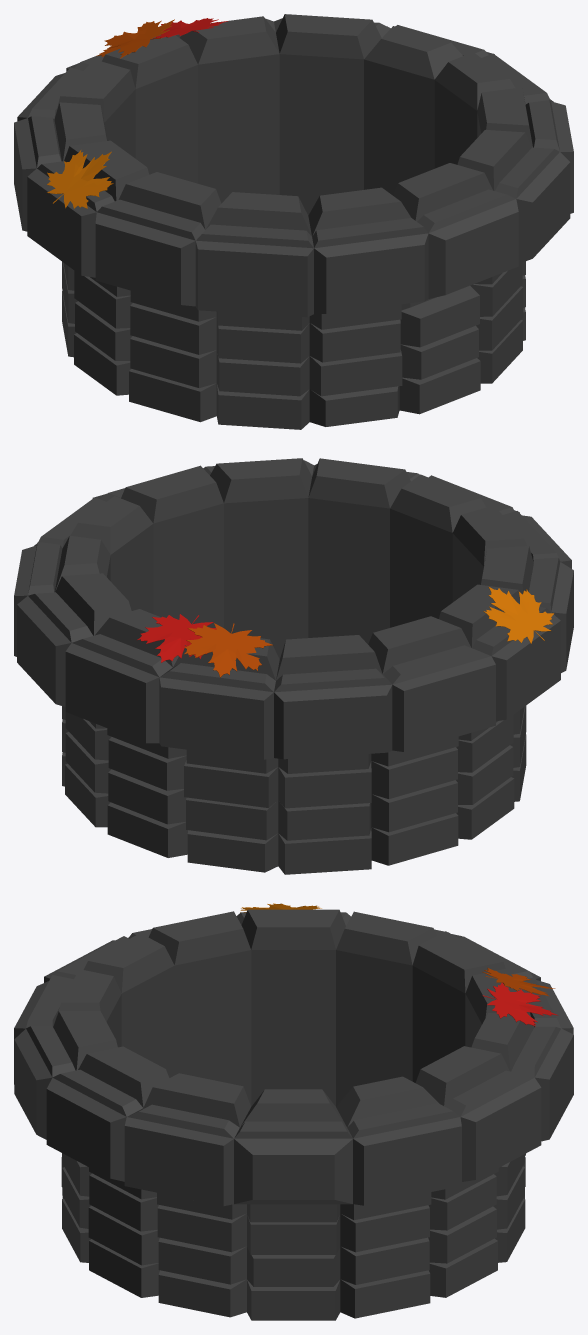
File: well.fbx
3 views of the same model, one above another, from view 1: azimuth 30°, elevation 25°; view 2: azimuth 150°, elevation 25°; view 3: azimuth 270°, elevation 25° (orthographic).
Visible parts, largest first — view 1: Cylinder, Plane, Plane.001, Plane.002; view 2: Cylinder, Plane.001, Plane, Plane.002; view 3: Cylinder, Plane.002, Plane.001.
Boxes of the visible parts, x1=… form: Cylinder: x1=14, y1=14, x2=573, y2=429; Plane: x1=47, y1=150, x2=113, y2=208; Plane.001: x1=96, y1=19, x2=174, y2=58; Plane.002: x1=151, y1=18, x2=227, y2=39; Cylinder: x1=14, y1=458, x2=573, y2=874; Plane.001: x1=184, y1=623, x2=273, y2=677; Plane: x1=483, y1=586, x2=554, y2=643; Plane.002: x1=137, y1=614, x2=216, y2=662; Cylinder: x1=14, y1=909, x2=573, y2=1320; Plane.002: x1=482, y1=982, x2=558, y2=1026; Plane.001: x1=482, y1=967, x2=555, y2=996.
Size of the model in its own units: 951 by 439 by 956.
